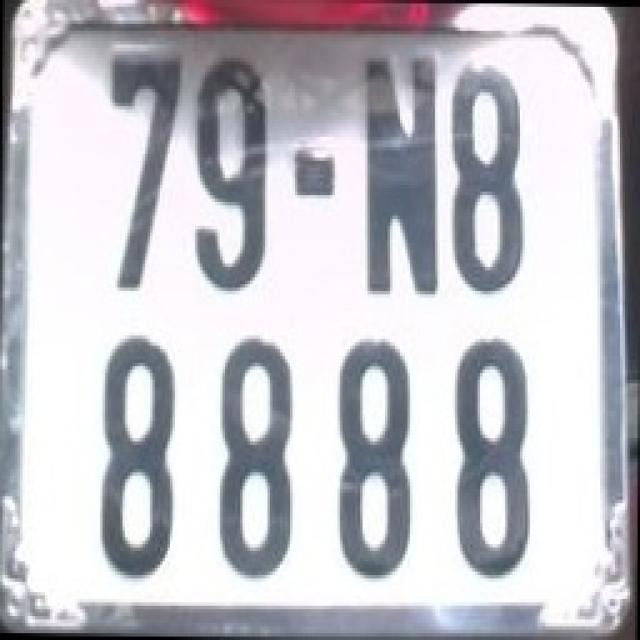7: (100, 44, 182, 294)
8: (450, 328, 535, 582), (95, 328, 180, 582), (333, 332, 415, 582), (215, 328, 297, 578), (448, 55, 530, 298)
9: (188, 52, 272, 294)
N: (355, 55, 443, 291)
